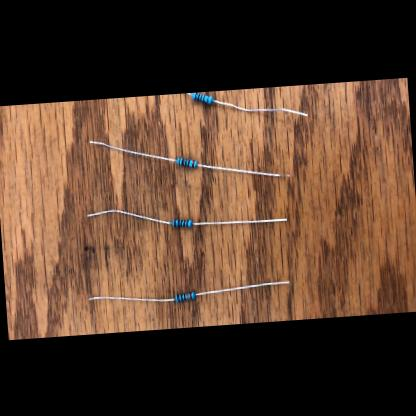resistor: (192, 90, 214, 104), (175, 155, 198, 168), (170, 218, 194, 228), (175, 290, 197, 300)
wire: (90, 134, 176, 166), (213, 92, 307, 121), (198, 157, 289, 182), (88, 204, 171, 228), (196, 280, 290, 294), (90, 291, 174, 306), (195, 215, 288, 226)
